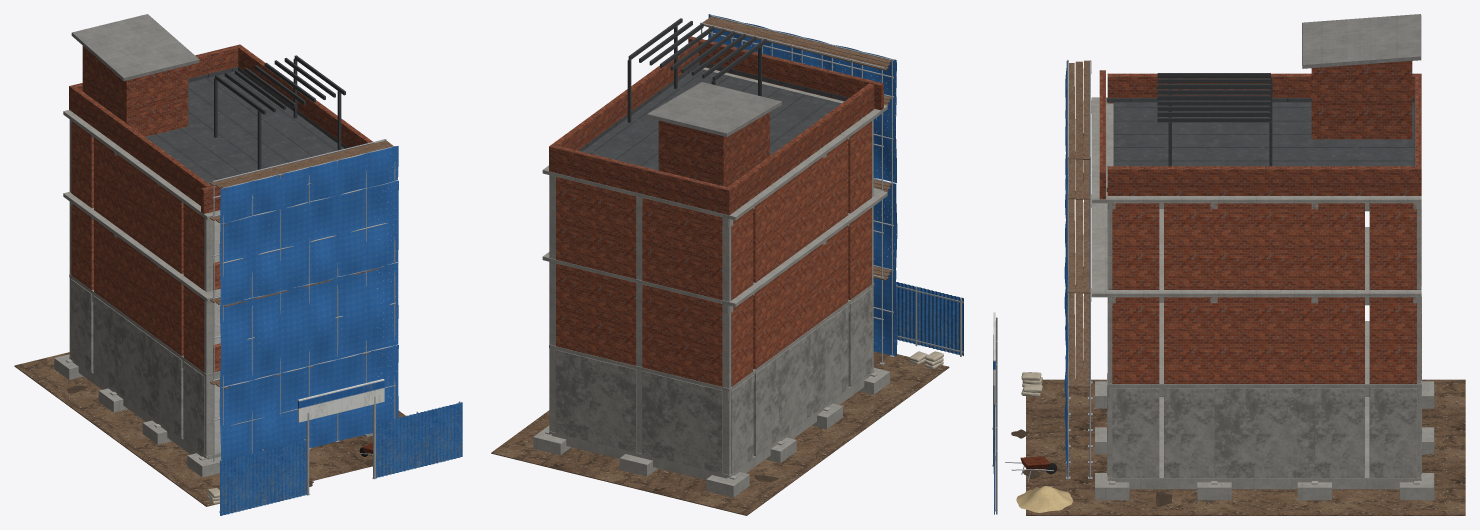
The model's file is phase-4.glb.
3 renders of one model, left to right at view 1: azimuth 30°, elevation 25°; view 2: azimuth 150°, elevation 25°; view 3: azimuth 270°, elevation 25°, orthographic. The views are drawn at different scales.
Parts seen in each view (by area): view 1: Temp_SafetyNet_3, Temp_SafetyNet_2, Temp_SafetyNet_1, RoofMembrane_1, Ground_1, Temp_SafetyNet_4, Wall_46, StairLid_1, Temp_Hoarding_1, Temp_Hoarding_2, Wall_43, Wall_3 (+28 smaller); view 2: Ground_1, Wall_12, Wall_11, Wall_24, Wall_25, Wall_38, Wall_39, RoofMembrane_1, Wall_46, Wall_42, Wall_43, StairLid_1 (+39 smaller); view 3: Ground_1, RoofMembrane_1, Wall_44, Wall_4, Wall_31, Wall_17, Wall_46, StairLid_1, Slab_3, Wall_2, Wall_6, Wall_33 (+35 smaller).
Part boxes in pixels (x1,y1,x2,y2): Temp_SafetyNet_3: (219, 180, 398, 305); Temp_SafetyNet_2: (220, 262, 398, 387); Temp_SafetyNet_1: (219, 345, 398, 460); RoofMembrane_1: (145, 71, 345, 185); Ground_1: (14, 352, 405, 506); Temp_SafetyNet_4: (220, 146, 398, 223); Wall_46: (82, 46, 188, 136); StairLid_1: (71, 14, 199, 81); Temp_Hoarding_1: (219, 439, 306, 515); Temp_Hoarding_2: (376, 401, 462, 477); Wall_43: (69, 85, 210, 205); Wall_3: (115, 311, 159, 421); Ground_1: (491, 351, 949, 515); Wall_12: (555, 350, 636, 452); Wall_11: (642, 371, 722, 473); Wall_24: (642, 284, 722, 386); Wall_25: (556, 263, 636, 365); Wall_38: (642, 198, 722, 300); Wall_39: (556, 177, 636, 278); RoofMembrane_1: (582, 68, 841, 170); Wall_46: (658, 112, 769, 187); Wall_42: (549, 145, 732, 215); Wall_43: (725, 83, 874, 214); StairLid_1: (647, 82, 781, 136); Ground_1: (1026, 379, 1465, 515); RoofMembrane_1: (1113, 102, 1415, 166); Wall_44: (1107, 166, 1421, 195); Wall_4: (1214, 388, 1314, 477); Wall_31: (1214, 203, 1314, 289); Wall_17: (1214, 297, 1314, 383); Wall_46: (1311, 61, 1412, 139); StairLid_1: (1302, 14, 1421, 68); Slab_3: (1091, 203, 1421, 297); Wall_2: (1314, 388, 1364, 477); Wall_6: (1164, 388, 1214, 477); Wall_33: (1164, 203, 1214, 289).
Size of the model in its own units: 10.2 by 13.63 by 15.07.
18 materials, 18 textured.
